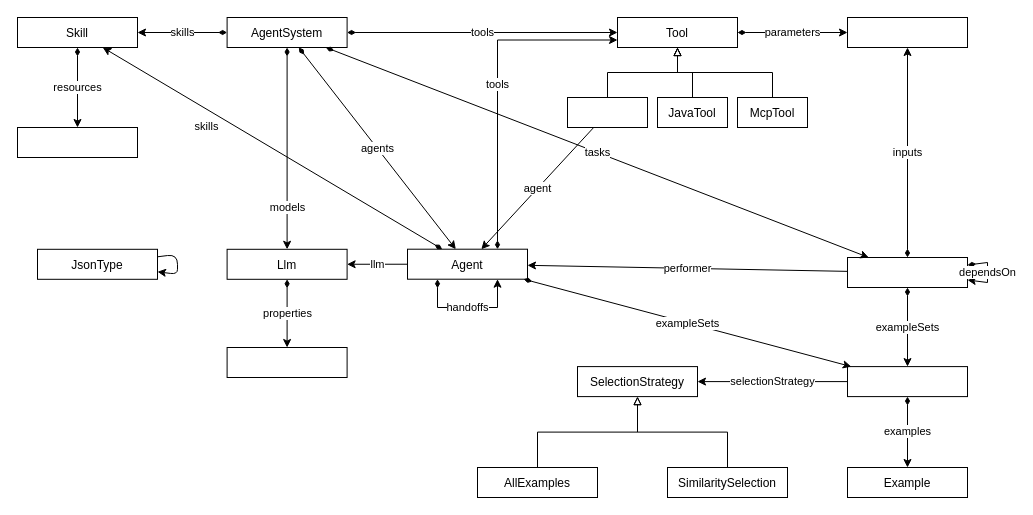
Image size: 1033x515. Some labels were removed from this diagram. Here are the shapes that lost their labels. From the top down, the centre of each, then its label:
[907,32]: Parameter
[607,112]: AgentTool
[77,142]: Resource
[907,272]: Task
[286,362]: Property
[907,381]: ExampleSet
